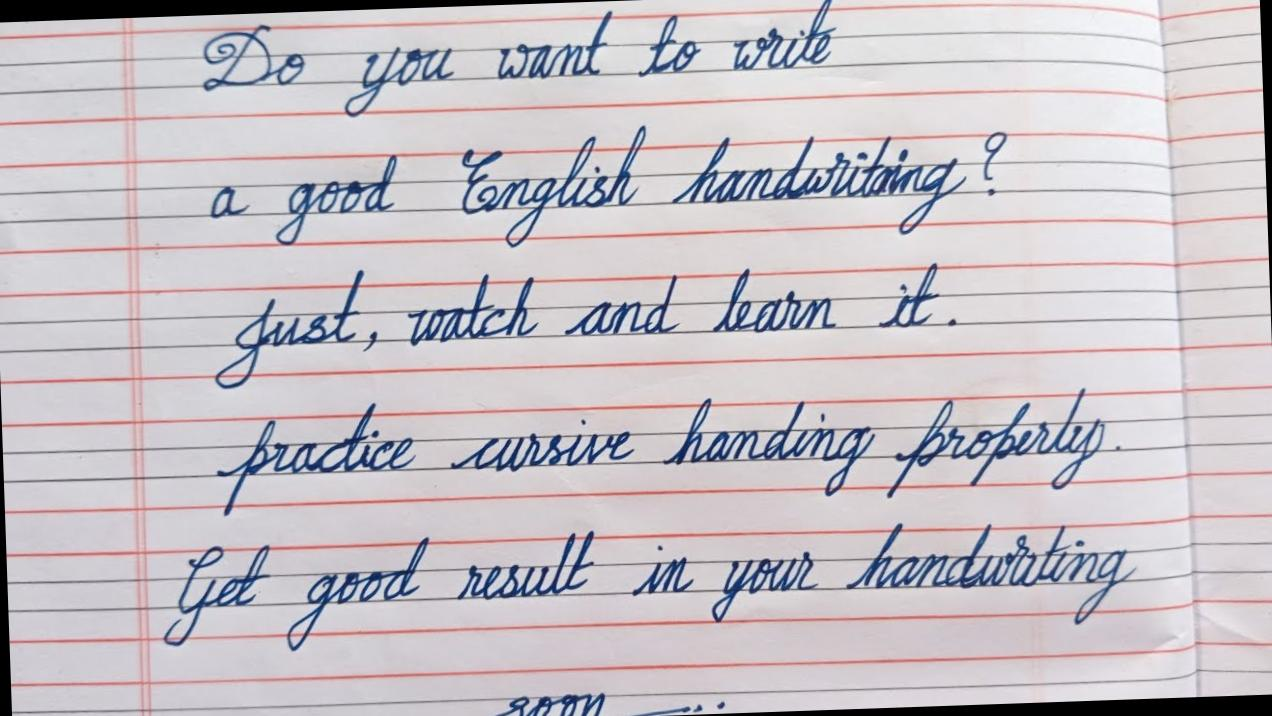text: (154, 508, 1148, 662), (212, 372, 1129, 522), (205, 106, 1015, 268), (206, 246, 966, 396), (194, 0, 843, 127)
